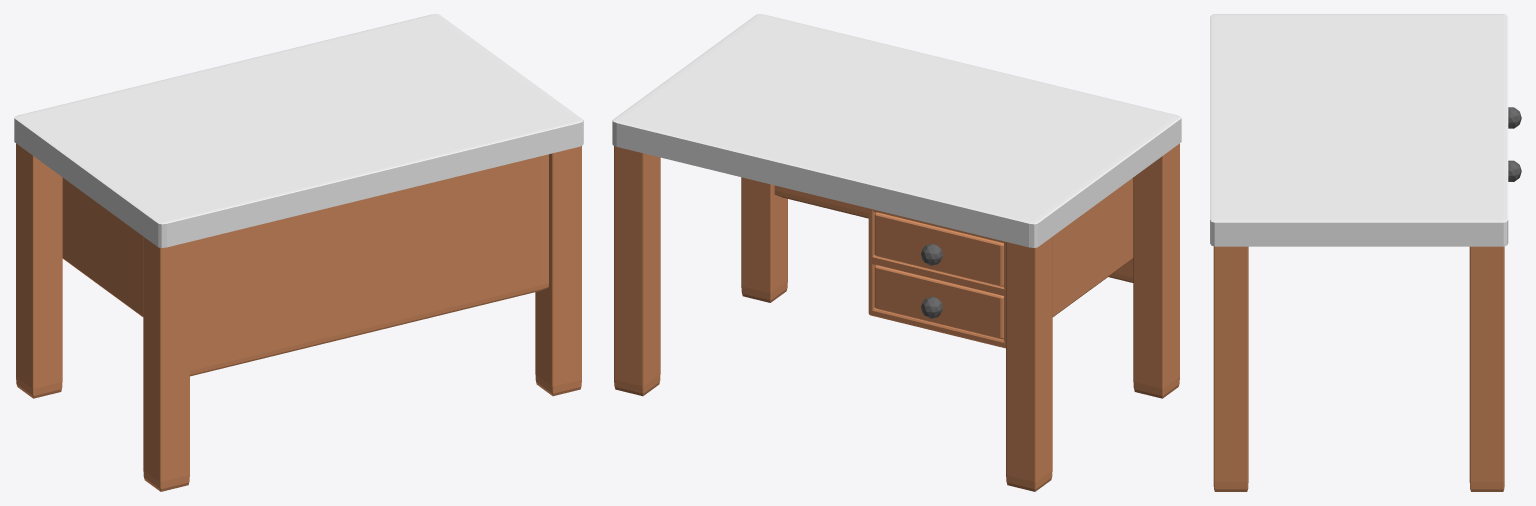
The model's file is Table.obj.
3 renders of one model, left to right at view 1: azimuth 30°, elevation 25°; view 2: azimuth 150°, elevation 25°; view 3: azimuth 270°, elevation 25°, orthographic.
Parts seen in each view (by area): view 1: Table_Cube.034; view 2: Table_Cube.034; view 3: Table_Cube.034.
Part boxes in pixels (bbox=[...]): Table_Cube.034: bbox=[14, 14, 583, 491]; Table_Cube.034: bbox=[612, 14, 1181, 491]; Table_Cube.034: bbox=[1210, 14, 1521, 491].
Bounding box in the file's own units: 2.82 × 1.71 × 1.78.
